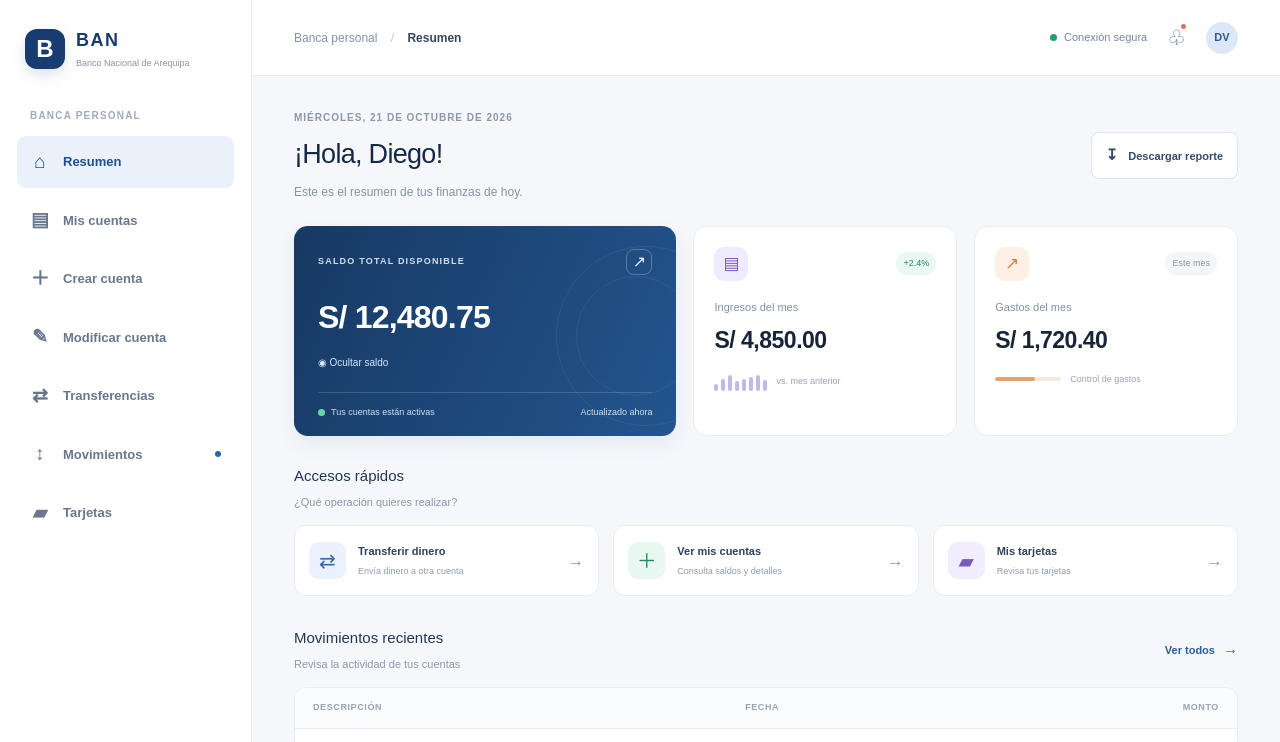
it: Transferencias › CP-16 Transferencia válida: aviso, redirección a Movimientos y registro del movimiento
Click the button "⇄ Transferencias". click: (126, 396)
box: [17,370,234,422]
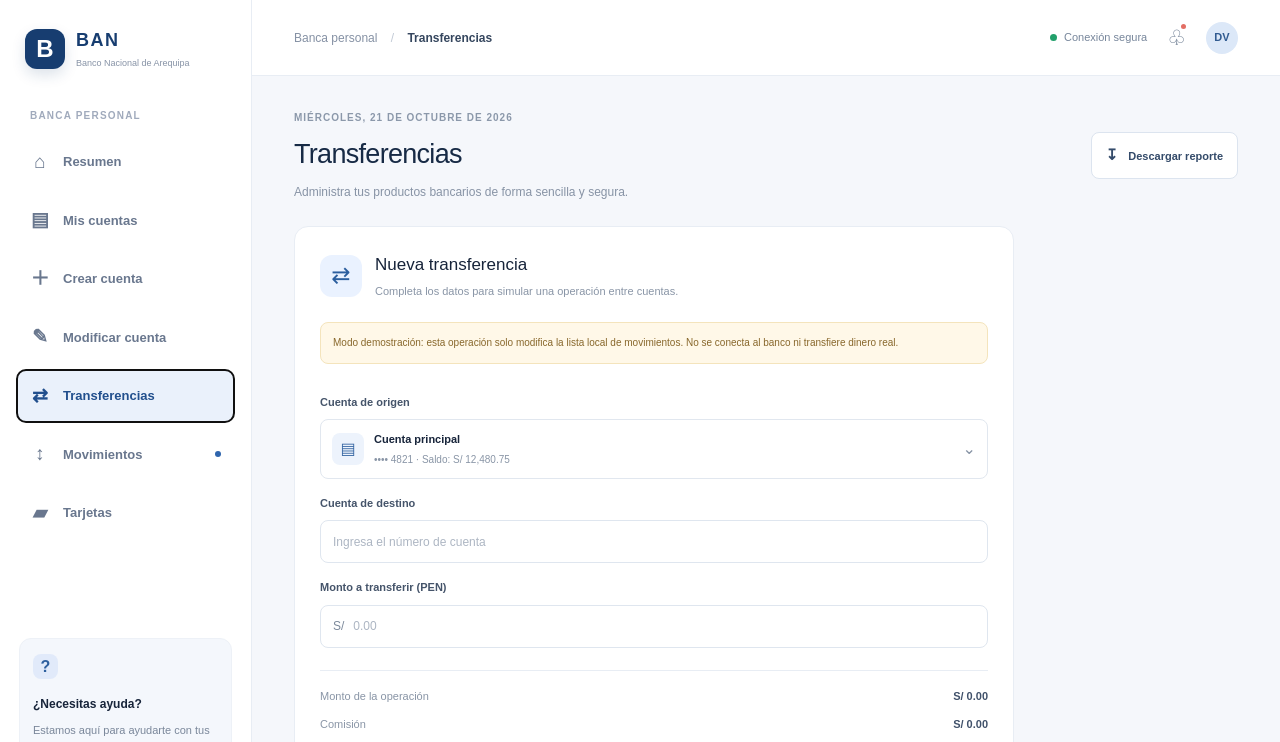
Type "987654321" into the field labelled "Cuenta de destino". click: (654, 542)
box: [320,520,988,563]
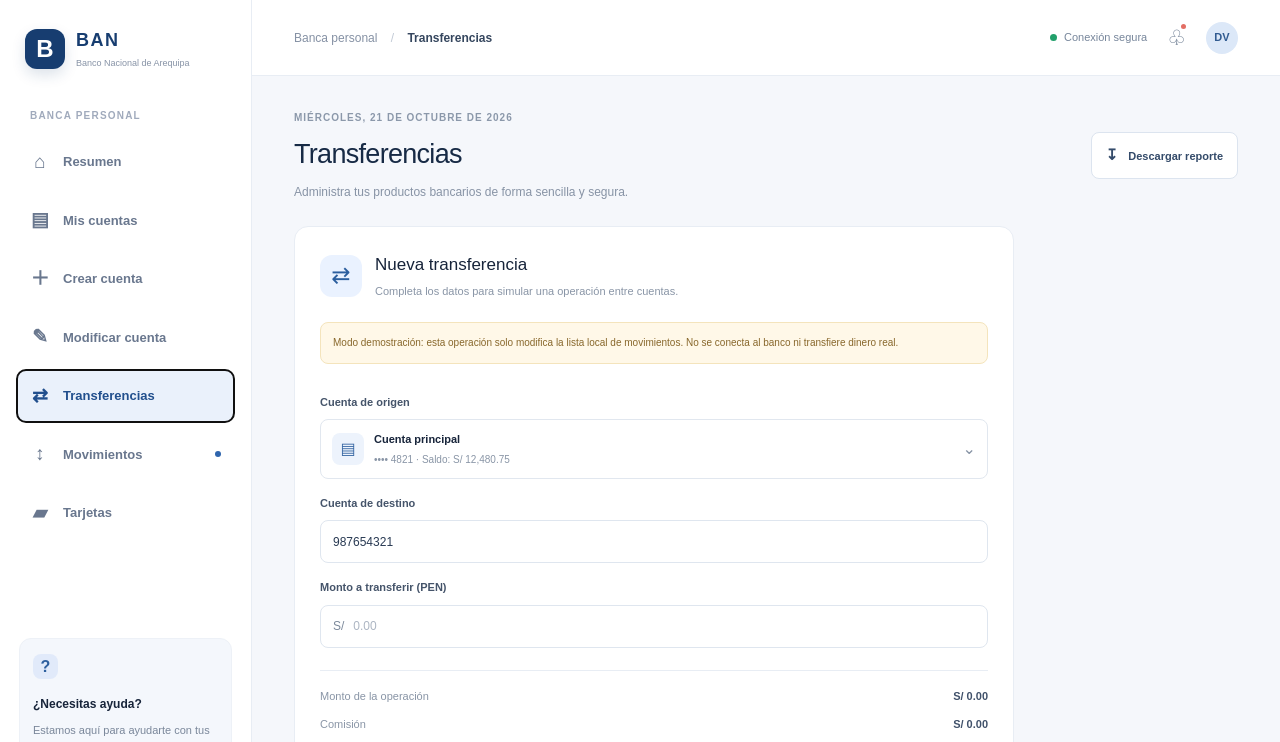
Type "250.50" into the number field labelled "Monto a transferir (PEN)". click: (664, 626)
box: [353,606,975,646]
(page scrolled)
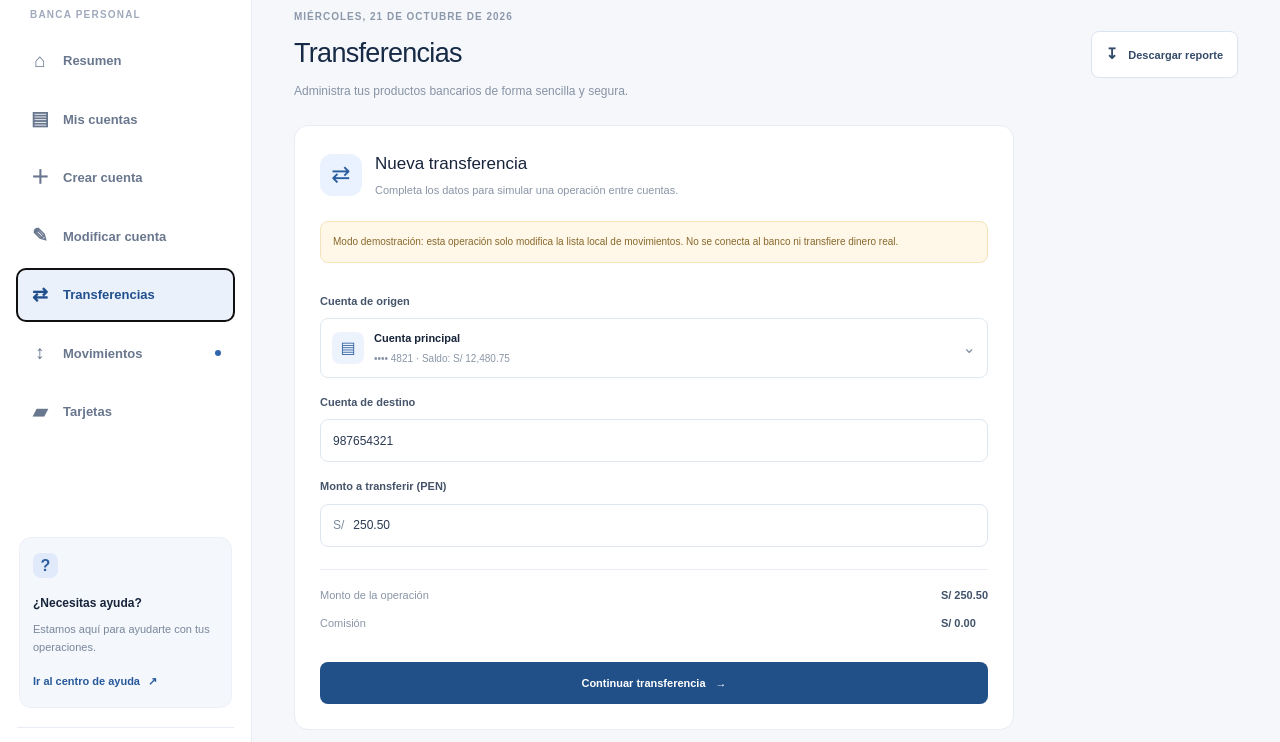
Submit the form named "Continuar transferencia", box [320,286,988,704]
(page scrolled)
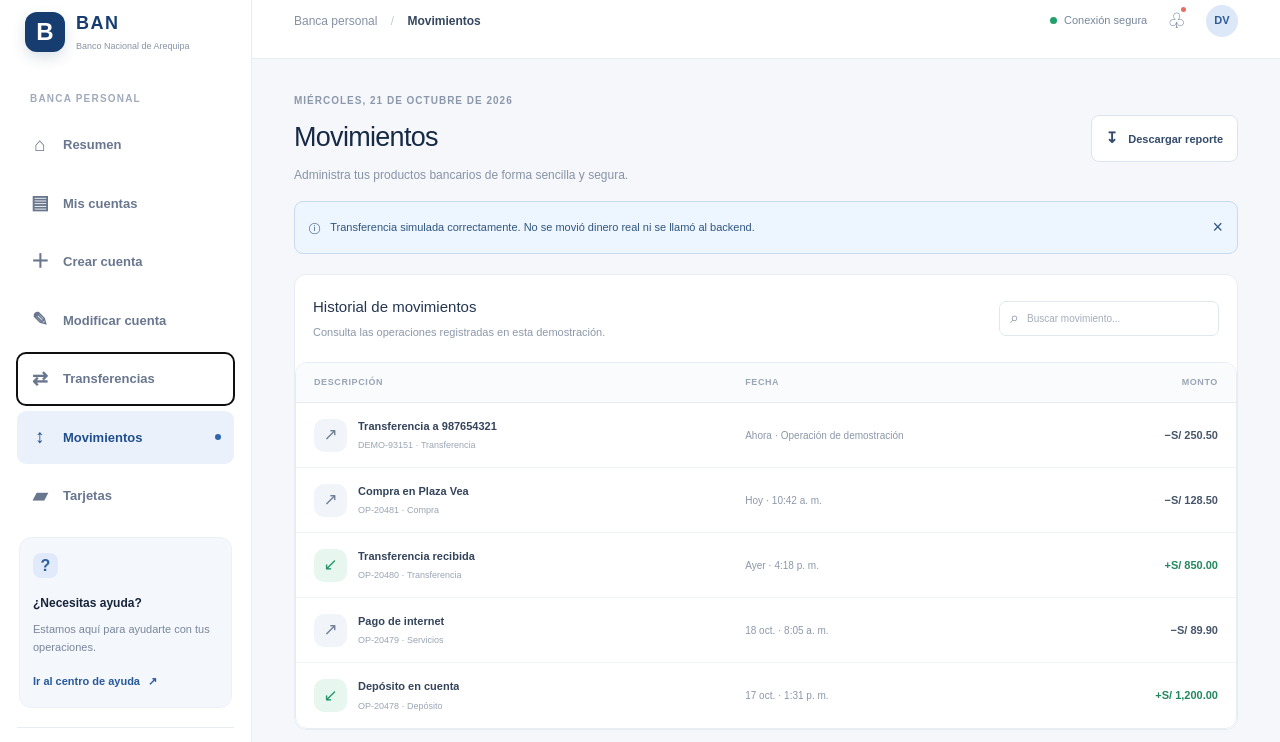
Now the message shows "Transferencia simulada correctamente", box [330,221,755,233]
Now the heading "Movimientos" is shown, box [294,122,438,152]
Now the text "Transferencia a 987654321" is shown, box [358,418,497,434]
